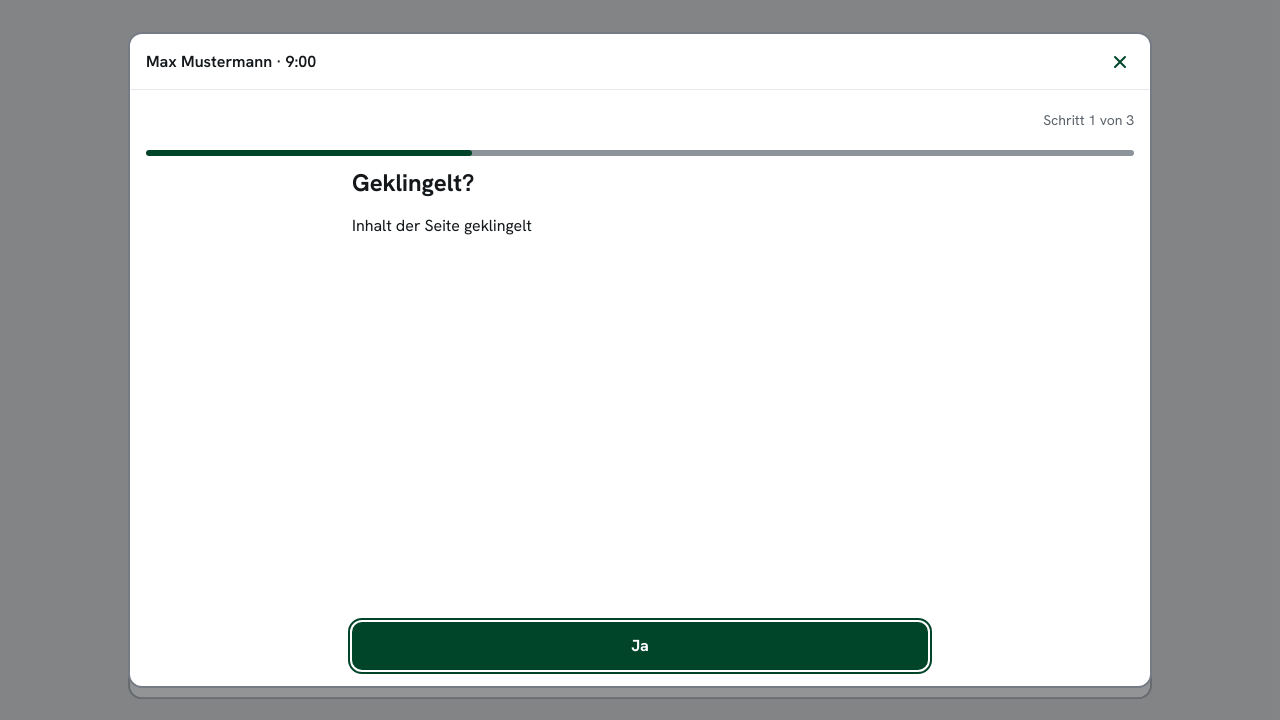
Test case: GefuehrterAblauf › geht weiter, sagt den Wechsel an und nimmt kurz keinen Tipp an
Click the 2nd button "Ja". click: coordinates (640, 646)
box: top-left (352, 622), bottom-right (928, 670)
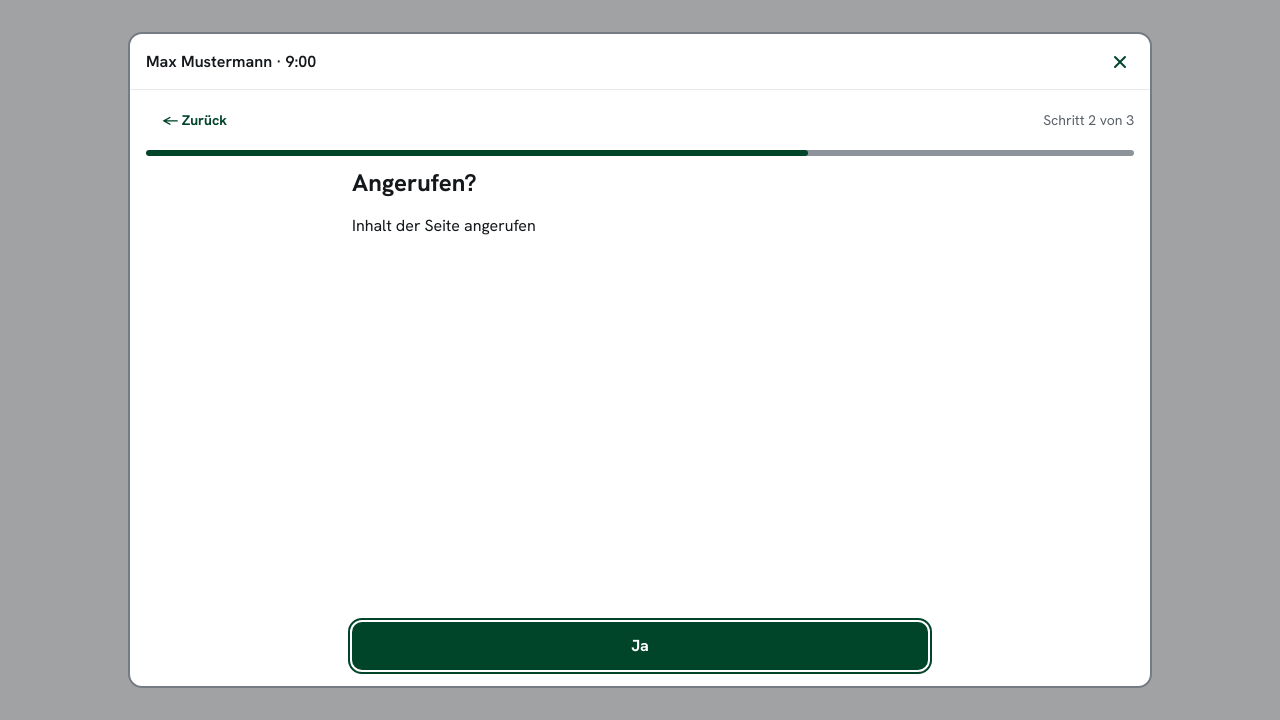
Now the element "Ja" is shown, box top-left (352, 167), bottom-right (928, 670)
